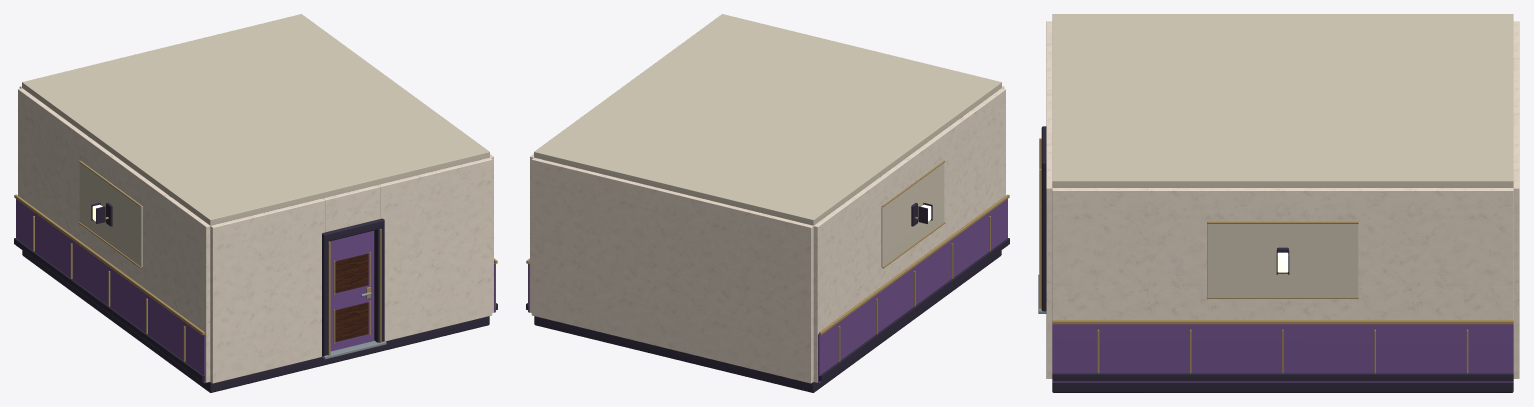
Rendered from guest_room.glb.
3 views of the same model, side by side, from view 1: azimuth 30°, elevation 25°; view 2: azimuth 150°, elevation 25°; view 3: azimuth 270°, elevation 25° (orthographic). The views are drawn at different scales.
Visible parts, largest first — view 1: ceiling_surface.008, front_wall.026, left_wall.024, front_wall.024, left_wainscot.016, floor.009, left_upper_inset.016, guest_room_leaf, front_wall.025, left_skirt.016, guest_room_jamb.001, guest_room_recessed_panel.001 (+4 smaller); view 2: ceiling_surface.008, back_wall.018, left_wall.024, left_wainscot.016, floor.009, left_upper_inset.016, left_skirt.016, left_rail.016; view 3: ceiling_surface.008, right_wall.024, right_wainscot.016, right_upper_inset.016, floor.009, right_skirt.016, back_wall.018, right_rail.016, front_wall.024, guest_room_jamb.001, front_wall.026, right_inset_edge.033 (+1 smaller).
Part boxes in pixels (left/top/right/bottom): ceiling_surface.008: left=22, top=14, right=489, bottom=225; front_wall.026: left=210, top=198, right=324, bottom=383; left_wall.024: left=18, top=88, right=210, bottom=382; front_wall.024: left=378, top=157, right=492, bottom=341; left_wainscot.016: left=16, top=199, right=205, bottom=383; floor.009: left=22, top=250, right=489, bottom=392; left_upper_inset.016: left=79, top=161, right=142, bottom=267; guest_room_leaf: left=330, top=230, right=374, bottom=351; front_wall.025: left=322, top=185, right=379, bottom=232; left_skirt.016: left=14, top=238, right=204, bottom=381; guest_room_jamb.001: left=374, top=224, right=384, bottom=342; guest_room_recessed_panel.001: left=335, top=253, right=368, bottom=293; ceiling_surface.008: left=534, top=14, right=1001, bottom=225; back_wall.018: left=531, top=157, right=813, bottom=383; left_wall.024: left=813, top=88, right=1005, bottom=382; left_wainscot.016: left=818, top=199, right=1007, bottom=383; floor.009: left=534, top=250, right=1001, bottom=392; left_upper_inset.016: left=881, top=161, right=944, bottom=267; left_skirt.016: left=819, top=238, right=1009, bottom=381; left_rail.016: left=819, top=194, right=1009, bottom=335; ceiling_surface.008: left=1052, top=14, right=1513, bottom=187; right_wall.024: left=1052, top=188, right=1513, bottom=319; right_wainscot.016: left=1052, top=324, right=1513, bottom=382; right_upper_inset.016: left=1207, top=224, right=1358, bottom=296; floor.009: left=1052, top=382, right=1513, bottom=392; right_skirt.016: left=1052, top=373, right=1513, bottom=381; back_wall.018: left=1513, top=21, right=1519, bottom=378; right_rail.016: left=1052, top=320, right=1513, bottom=324; front_wall.024: left=1046, top=121, right=1052, bottom=378; guest_room_jamb.001: left=1041, top=167, right=1046, bottom=311; front_wall.026: left=1046, top=21, right=1052, bottom=88; right_inset_edge.033: left=1207, top=221, right=1358, bottom=223.
Size of the model in its own units: 6.96 by 3.56 by 7.3.
Materials: 13 (3 with a texture image).
